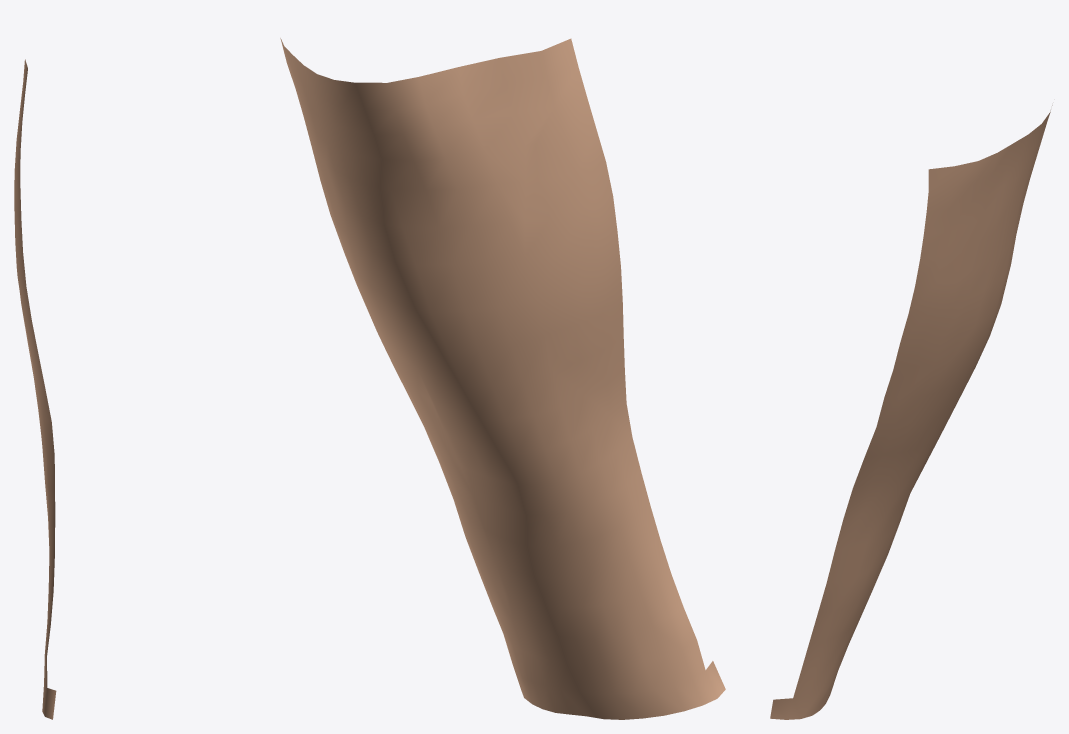
Rendered from posterior-region-of-forearm-r.glb.
The picture shows the model from 3 angles, left to right: view 1: azimuth 30°, elevation 25°; view 2: azimuth 150°, elevation 25°; view 3: azimuth 270°, elevation 25°; orthographic projection. The views are drawn at different scales.
Parts seen in each view (by area): view 1: Posterior region of forearm.r; view 2: Posterior region of forearm.r; view 3: Posterior region of forearm.r.
Part boxes in pixels (x1,y1,x2,y2): Posterior region of forearm.r: [14, 59, 56, 719]; Posterior region of forearm.r: [280, 38, 725, 719]; Posterior region of forearm.r: [770, 105, 1052, 719].
Size of the model in its own units: 0.1145 by 0.2364 by 0.0984.
